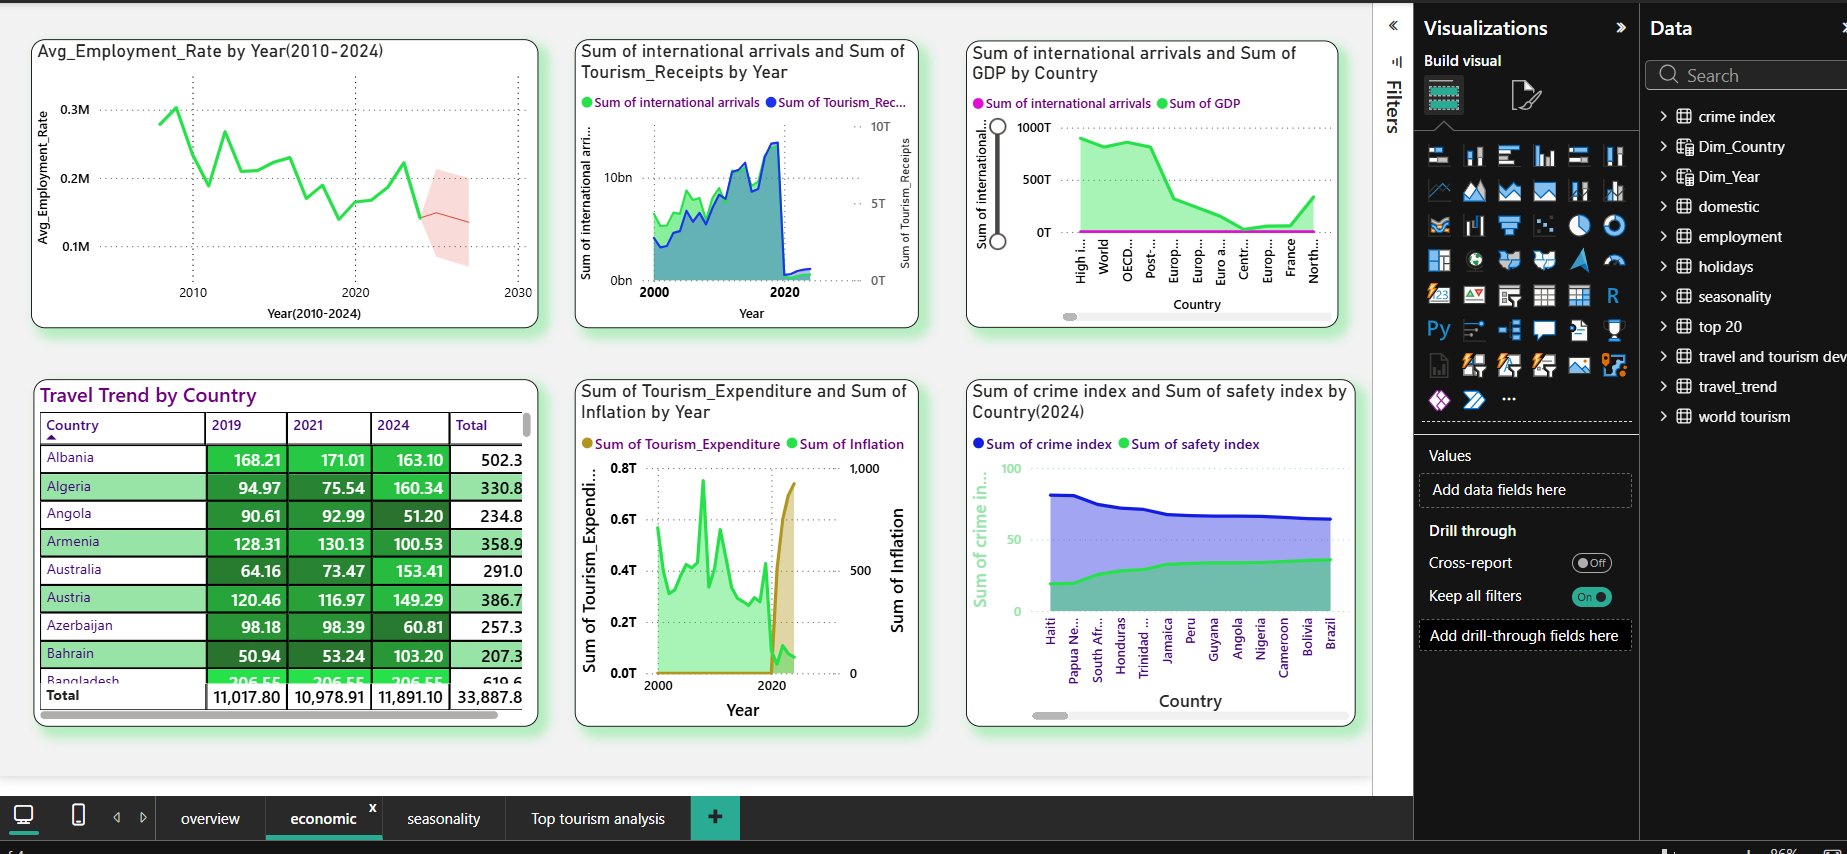

The page's visual inventory and layout, read from the dashboard file:
{"tool":"powerbi","page":{"name":"economic ","canvas":[1280,720],"ordinal":1},"visuals":[{"type":"areaChart","fields":{"Category":["Dim_Year.Year"],"Y":["Sum(world tourism.Tourism_Expenditure)"],"Y2":["Sum(world tourism.Inflation)"]},"box":[522.1,329.1,336,364],"z":0},{"type":"areaChart","fields":{"Category":["Dim_Year.Year"],"Y2":["Sum(world tourism.Tourism_Receipts)"],"Y":["Sum(world tourism.international arrivals)"]},"box":[522.1,23.3,336,279.1],"z":1000},{"type":"pivotTable","title":"Travel Trend by Country","fields":{"Rows":["Dim_Country.Country"],"Columns":["seasonality.Year"],"Values":["Sum(seasonality.Value)"]},"box":[26.7,329.1,469.8,364],"z":2000},{"type":"lineChart","fields":{"Y":["employment.Avg_Employment_Rate"],"Category":["employment.Year"]},"box":[24.4,23.3,472.1,279.1],"z":4000},{"type":"stackedAreaChart","fields":{"Y":["Sum(world tourism.international arrivals)","Sum(world tourism.GDP)"],"Category":["Dim_Country.Country"]},"box":[886,23.3,362.8,279.1],"z":5000},{"type":"areaChart","title":"Sum of crime index and Sum of safety index by Country(2024)","fields":{"Category":["Dim_Country.Country"],"Y":["Sum(crime index.crime index)","Sum(crime index.safety index)"]},"box":[886,329.1,362.8,364],"z":6000}]}

Visuals, with their boxes on the page's 1280x720 design canvas (x1, y1, x2, y2). These are canvas units, not pixel positions in the 1847x854 screenshot, which may show the page scaled, cropped or inside an application window:
areaChart - Dim_Year.Year x Sum(world tourism.Tourism_Expenditure): select_region(522, 329, 858, 693)
areaChart - Dim_Year.Year x Sum(world tourism.Tourism_Receipts): select_region(522, 23, 858, 302)
"Travel Trend by Country" pivotTable: select_region(27, 329, 496, 693)
lineChart - employment.Avg_Employment_Rate x employment.Year: select_region(24, 23, 496, 302)
stackedAreaChart - Sum(world tourism.international arrivals) x Sum(world tourism.GDP): select_region(886, 23, 1249, 302)
"Sum of crime index and Sum of safety index by Country(2024)" areaChart: select_region(886, 329, 1249, 693)
